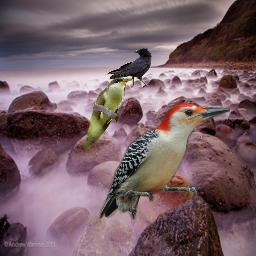Crow: (105, 48, 152, 88)
Cuckoo: (83, 77, 132, 149)
Woodpecker: (98, 103, 230, 220)
